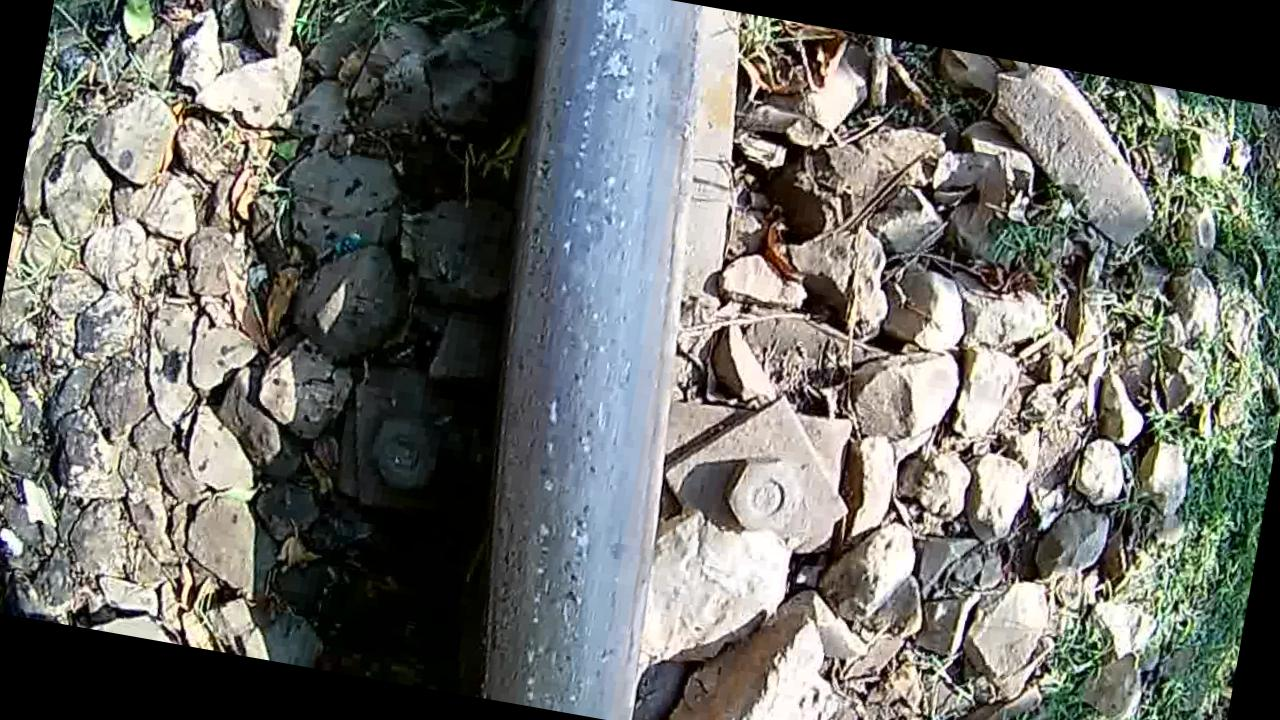clip_missing: (415, 0, 748, 720)
